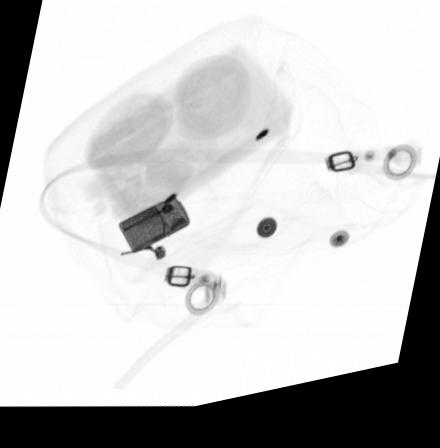Lighter: (117, 201, 189, 258)
